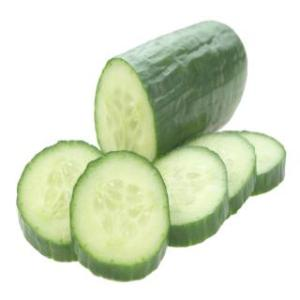cucumber: (93, 22, 247, 162)
